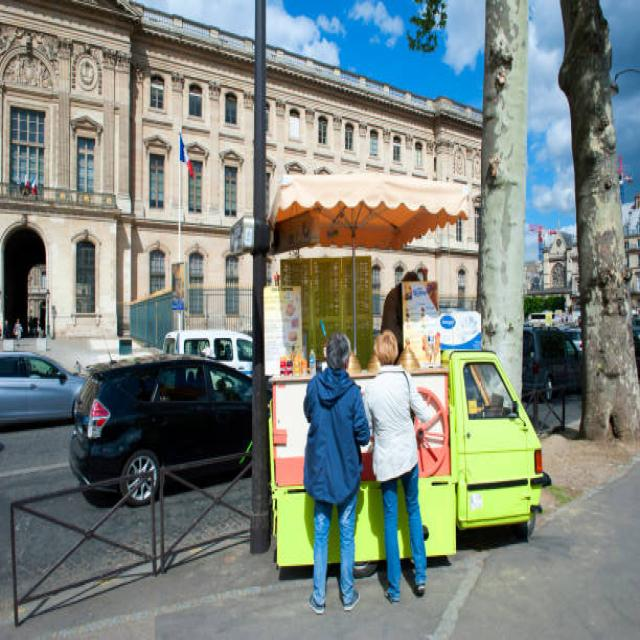Emperan: (234, 156, 558, 625)
